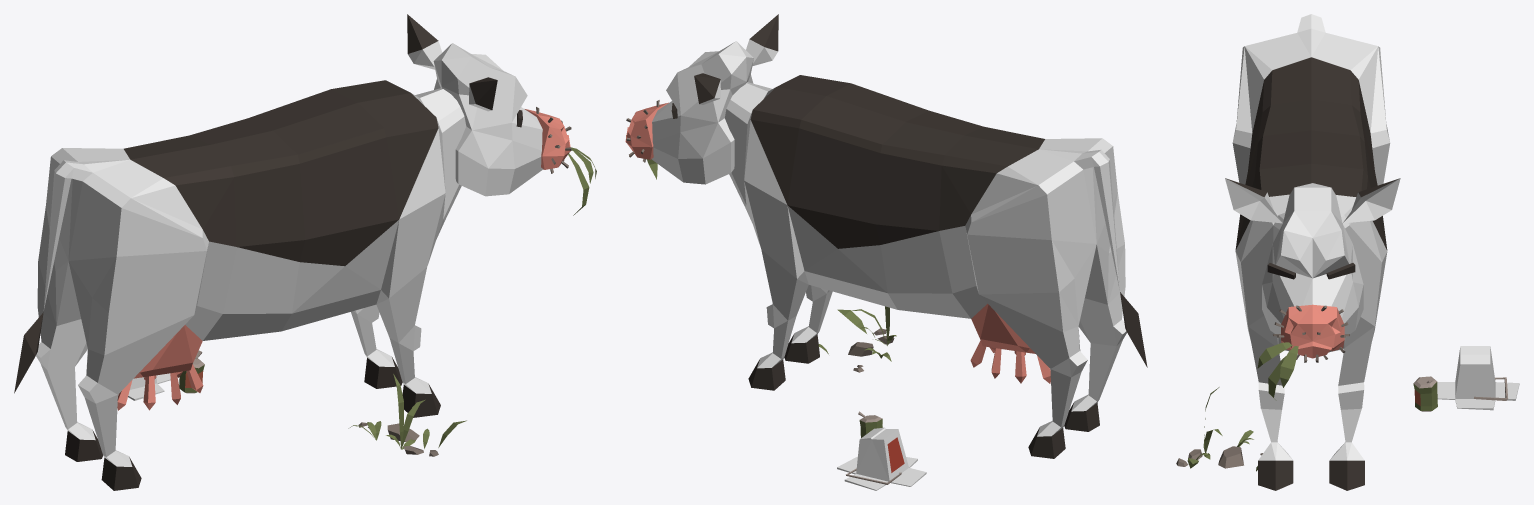
The model's file is cow.fbx.
3 renders of one model, left to right at view 1: azimuth 30°, elevation 25°; view 2: azimuth 150°, elevation 25°; view 3: azimuth 270°, elevation 25°, orthographic. The views are drawn at different scales.
Parts seen in each view (by area): view 1: cow, cowhead, Cube.051, Plane.069; view 2: cow, cowhead, takeout box, Cube.051; view 3: cow, cowhead, takeout box, Cube.051, Cylinder, crack.001, Cube.052, Plane.077.
Part boxes in pixels (bbox=[...]): cow: bbox=[14, 80, 466, 490]; cowhead: bbox=[407, 14, 570, 196]; Cube.051: bbox=[525, 109, 570, 169]; Plane.069: bbox=[386, 374, 425, 449]; cow: bbox=[725, 75, 1147, 458]; cowhead: bbox=[625, 14, 778, 184]; takeout box: bbox=[837, 427, 926, 490]; Cube.051: bbox=[626, 102, 668, 159]; cow: bbox=[1232, 14, 1390, 490]; cowhead: bbox=[1225, 178, 1400, 358]; takeout box: bbox=[1437, 346, 1519, 410]; Cube.051: bbox=[1281, 304, 1344, 351]; Cylinder: bbox=[1413, 376, 1437, 411]; crack.001: bbox=[1176, 446, 1262, 468]; Cube.052: bbox=[1267, 263, 1355, 279]; Plane.077: bbox=[1280, 346, 1298, 387].
Bounding box in the file's own units: 317 × 179 × 170.
